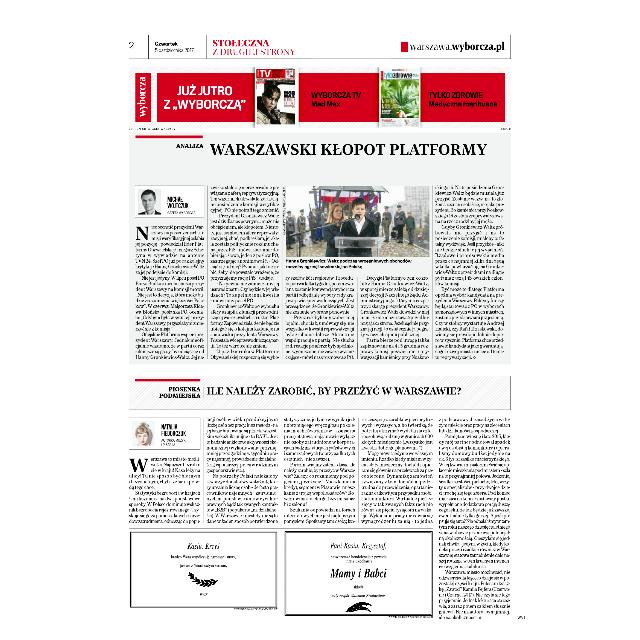article: (130, 378, 512, 620), (132, 134, 506, 363)
